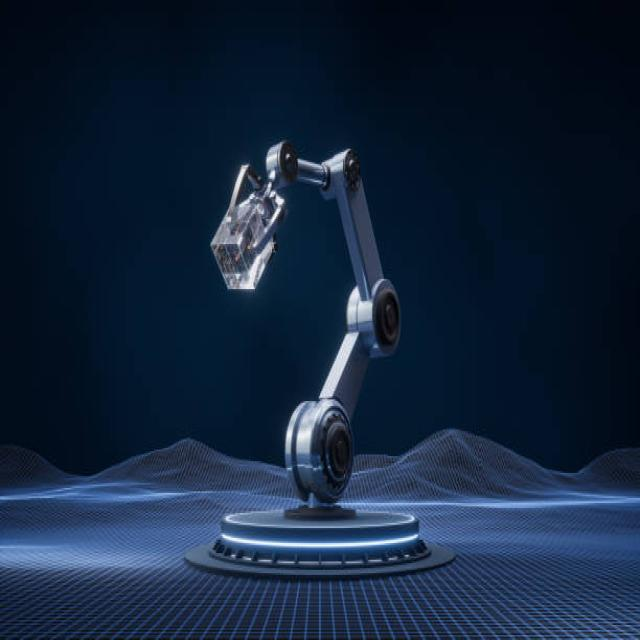Robotic-arm: (208, 143, 406, 511)
